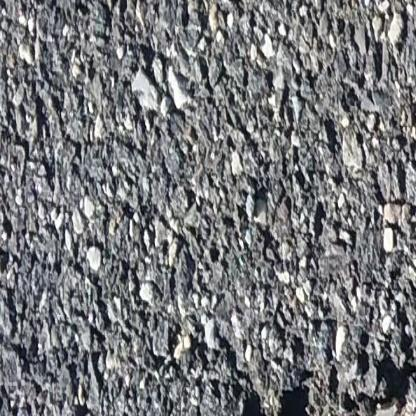Cracks: (323, 311, 416, 410), (239, 385, 309, 416)
